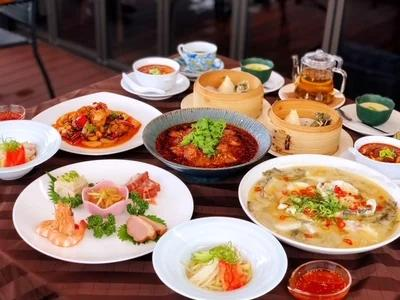Braised Crucian Carp: (12, 159, 190, 262), (236, 153, 398, 253), (152, 216, 287, 298), (141, 106, 268, 182), (31, 91, 159, 156)
